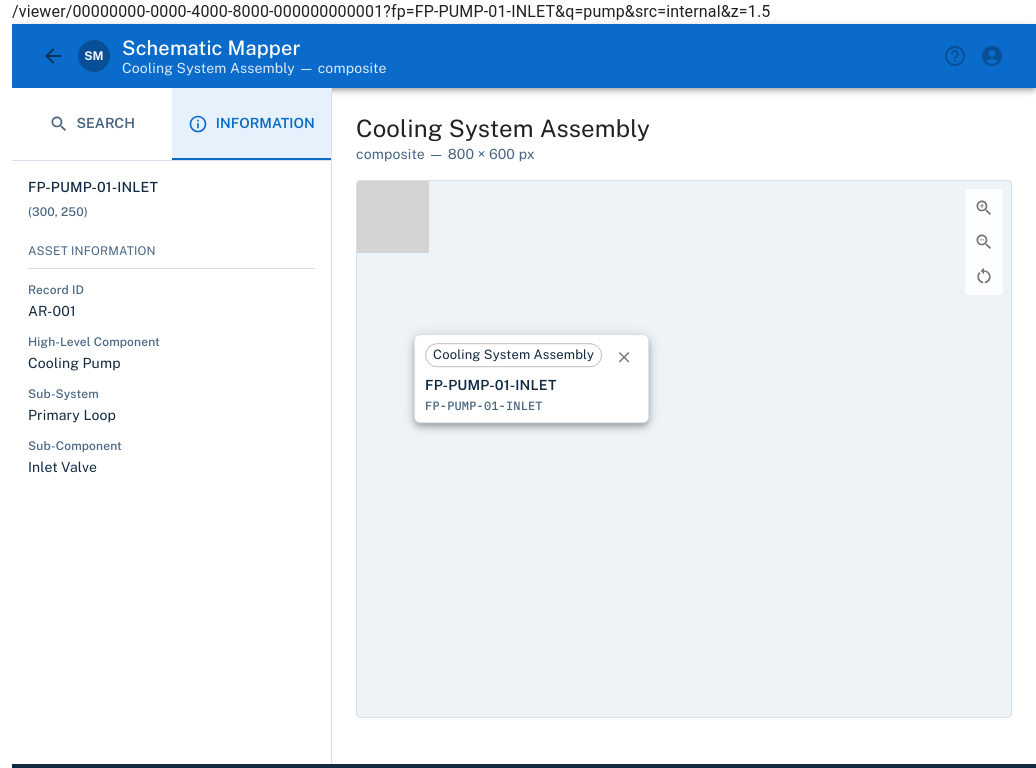
Test: ImageViewerPage › restores search parameters and zoom level from the shared URL
What coordinates should you click on to do the following:
click the tab "Search"
I would click on:
 (92, 124)
Its box is [12,88,172,160].
(page scrolled)
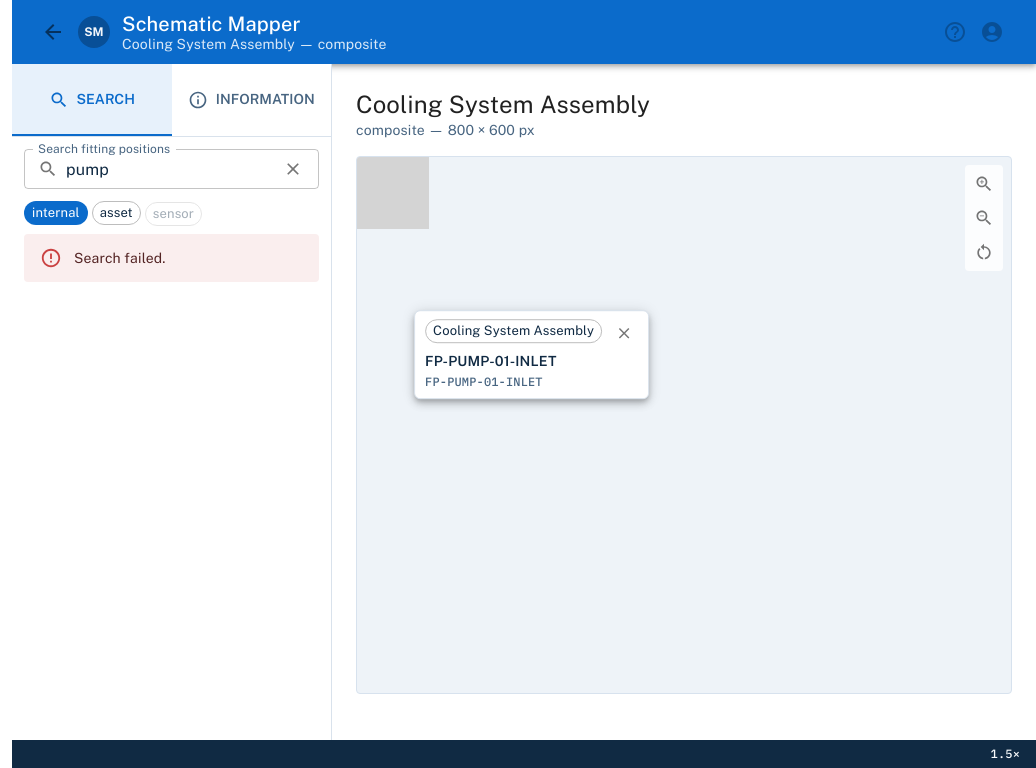
Expected: the text "1.5×" is shown, [991,746,1020,762]
Expected: the field labelled "Search fitting positions" holds "pump", [66,149,270,189]
